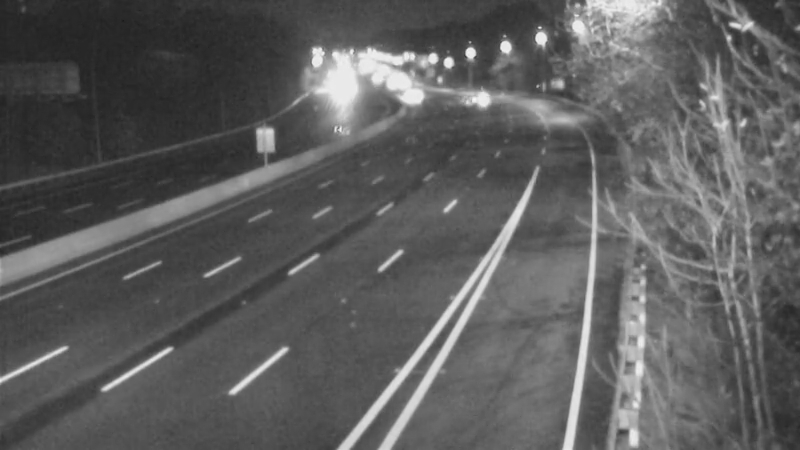vehicle: (391, 67, 441, 117), (450, 68, 500, 118)
